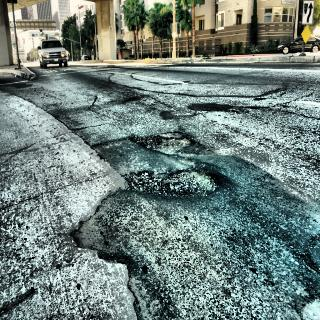pothole: (129, 165, 223, 217), (141, 133, 192, 156)
